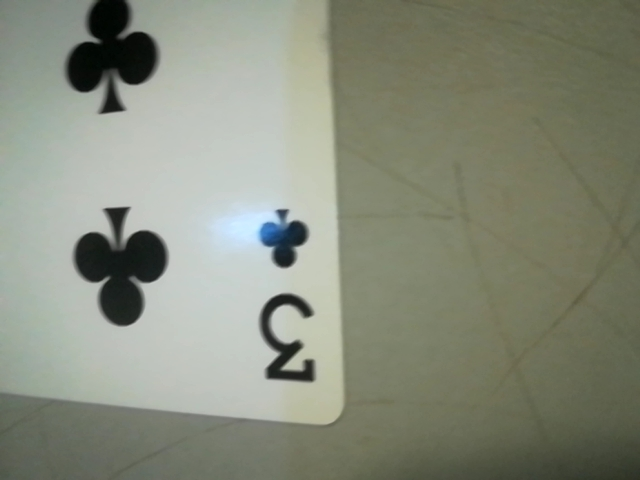mh 3: (247, 197, 334, 402)
